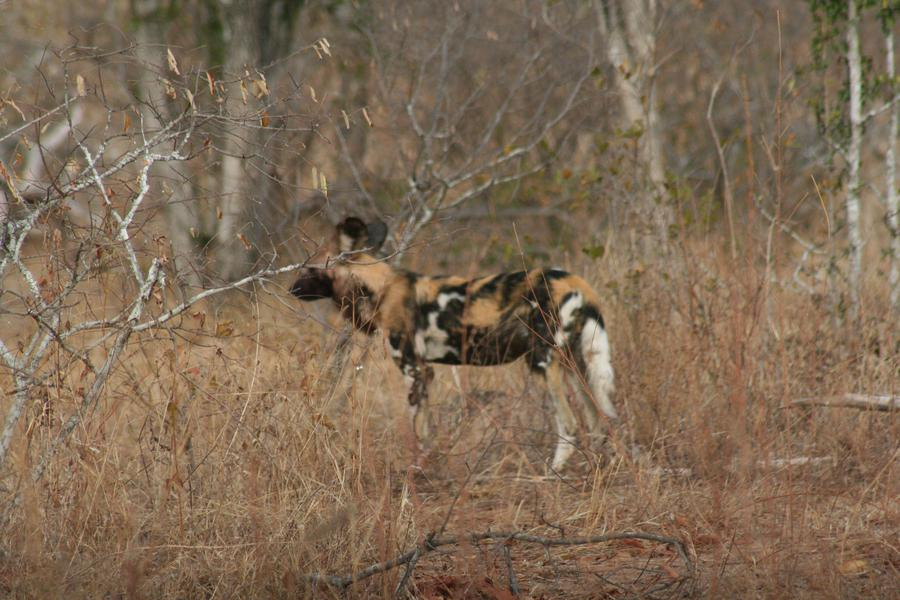wilddog: (319, 243, 611, 401)
